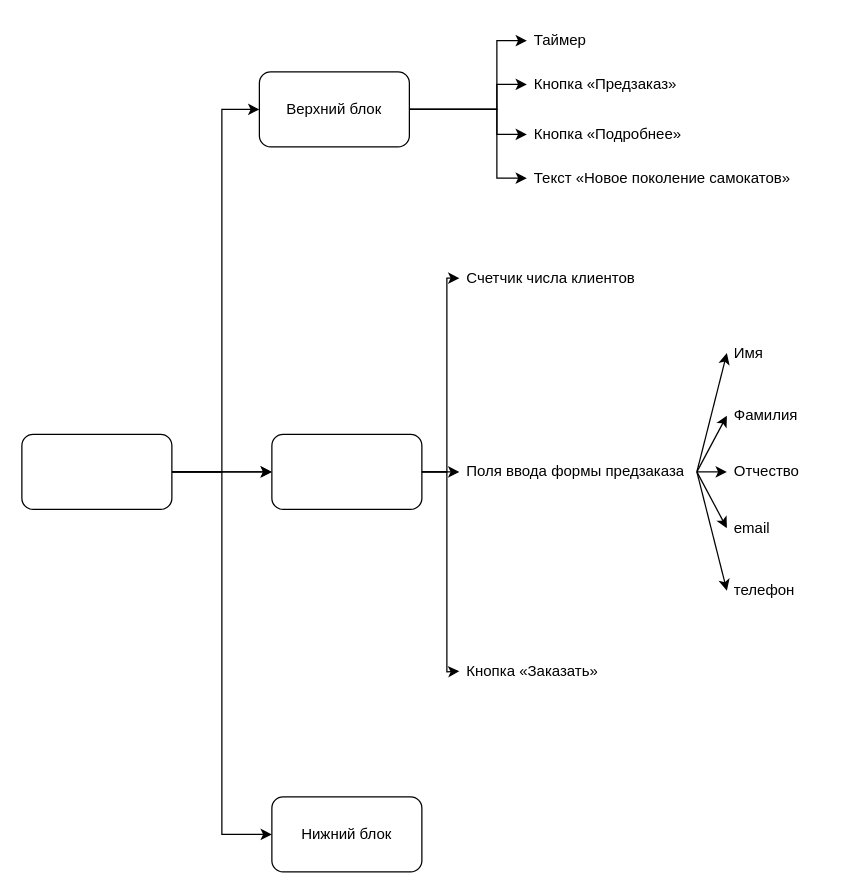
Image size: 849x894. Some labels were removed from this diagram. Here are the shapes that lost their labels. From the top down, the centre of each, then its label:
At (x=96, y=471): "Промо-страница Яндекс.Самоката".
At (x=346, y=471): "Форма предзаказа".
